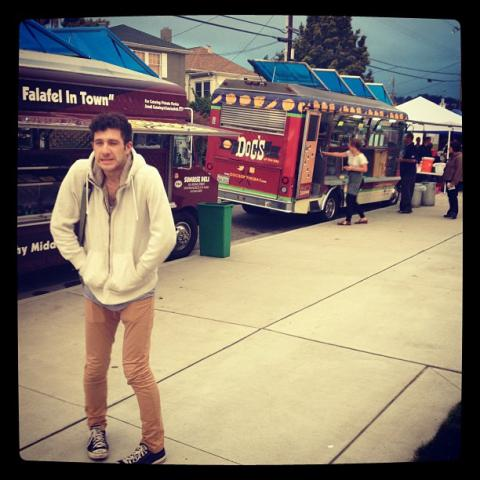bus: (202, 71, 410, 214)
truck: (21, 49, 231, 289), (203, 62, 409, 222)
